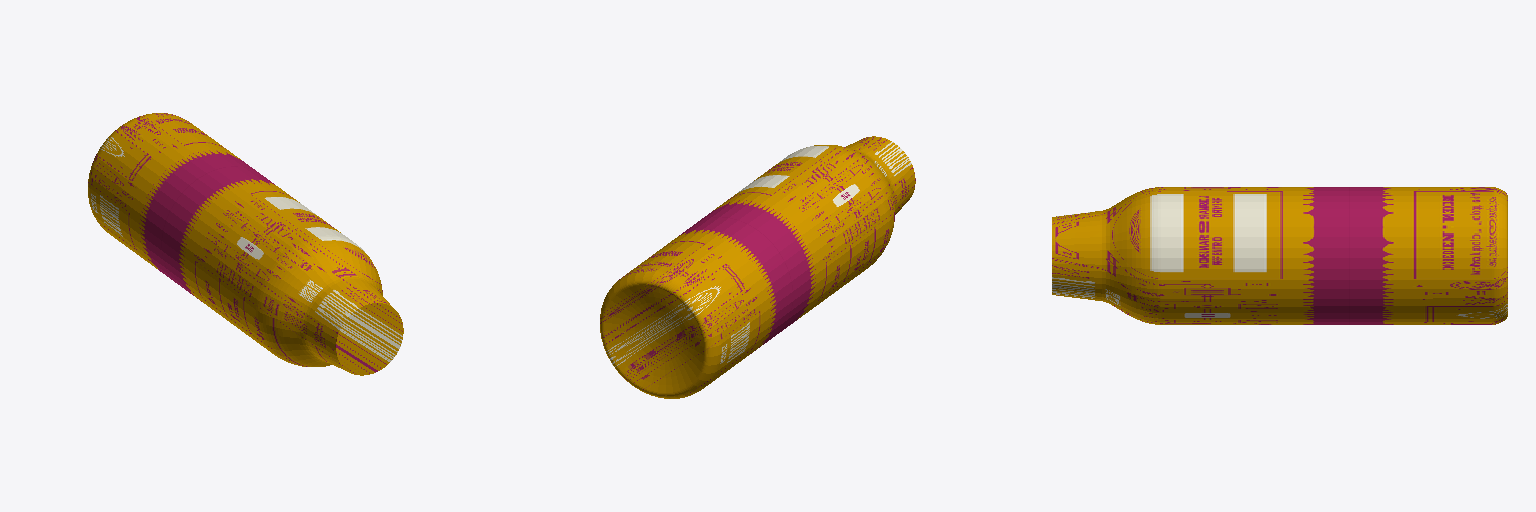
3 views of the same model, side by side, from view 1: azimuth 30°, elevation 25°; view 2: azimuth 150°, elevation 25°; view 3: azimuth 270°, elevation 25° (orthographic).
Bounding box in the file's own units: 0.215 × 0.2151 × 0.7105.
1 materials, 1 textured.